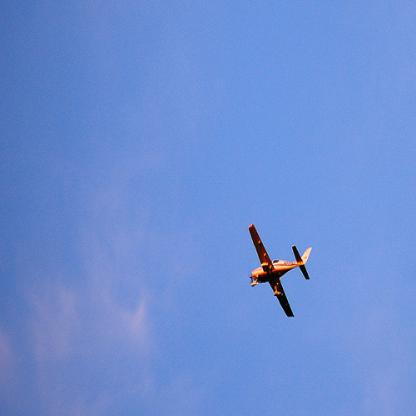aeroplane: (248, 225, 313, 317)
